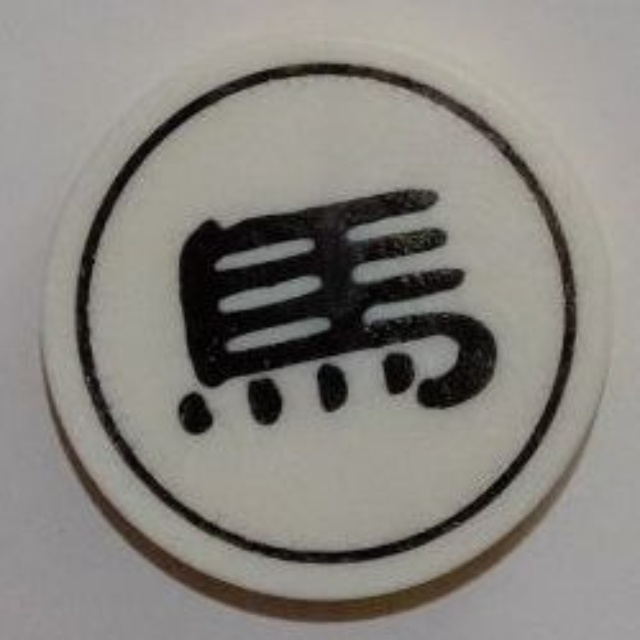black_ma: (41, 23, 615, 609)
